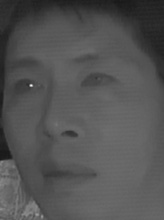eye: (78, 69, 119, 94), (10, 73, 48, 97)
mouth: (36, 154, 98, 192)
